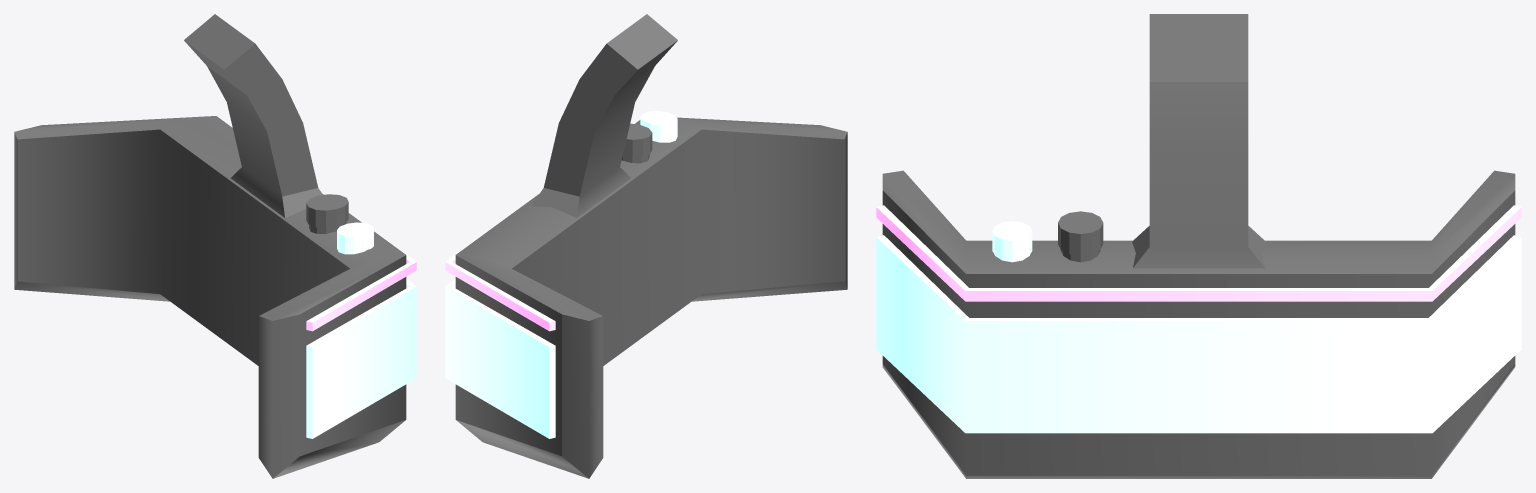
The picture shows the model from 3 angles, left to right: view 1: azimuth 30°, elevation 25°; view 2: azimuth 150°, elevation 25°; view 3: azimuth 270°, elevation 25°; orthographic projection. The views are drawn at different scales.
Visible parts, largest first — view 1: polySurface170; view 2: polySurface170; view 3: polySurface170.
Part boxes in pixels (left/top/right/bottom): polySurface170: left=14, top=14, right=416, bottom=478; polySurface170: left=445, top=14, right=847, bottom=478; polySurface170: left=876, top=14, right=1521, bottom=478.
Size of the model in its own units: 0.0116 by 0.0216 by 0.029.
